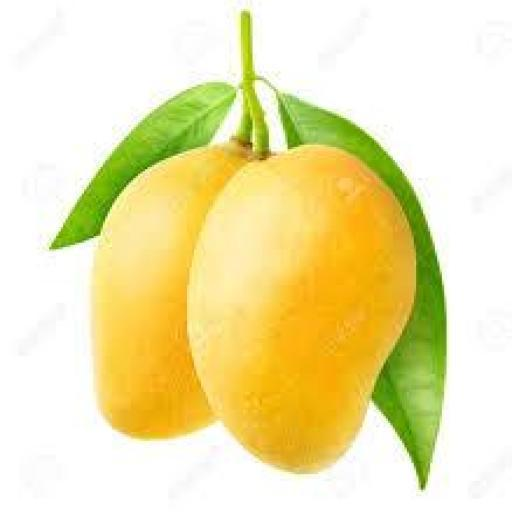mango: (188, 145, 416, 471), (92, 143, 250, 438)
